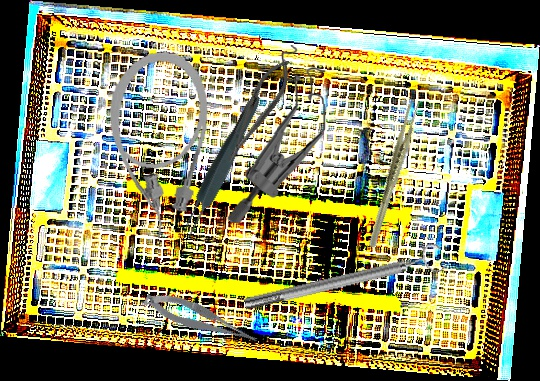Cannula: (94, 46, 217, 242)
Fixation Ring: (241, 241, 446, 319)
Micro Scissor: (141, 281, 261, 359)
Needle Holder: (216, 53, 299, 169)
Speculum: (221, 43, 333, 224)
Tissue Forceps: (342, 99, 444, 249), (176, 91, 267, 240)
